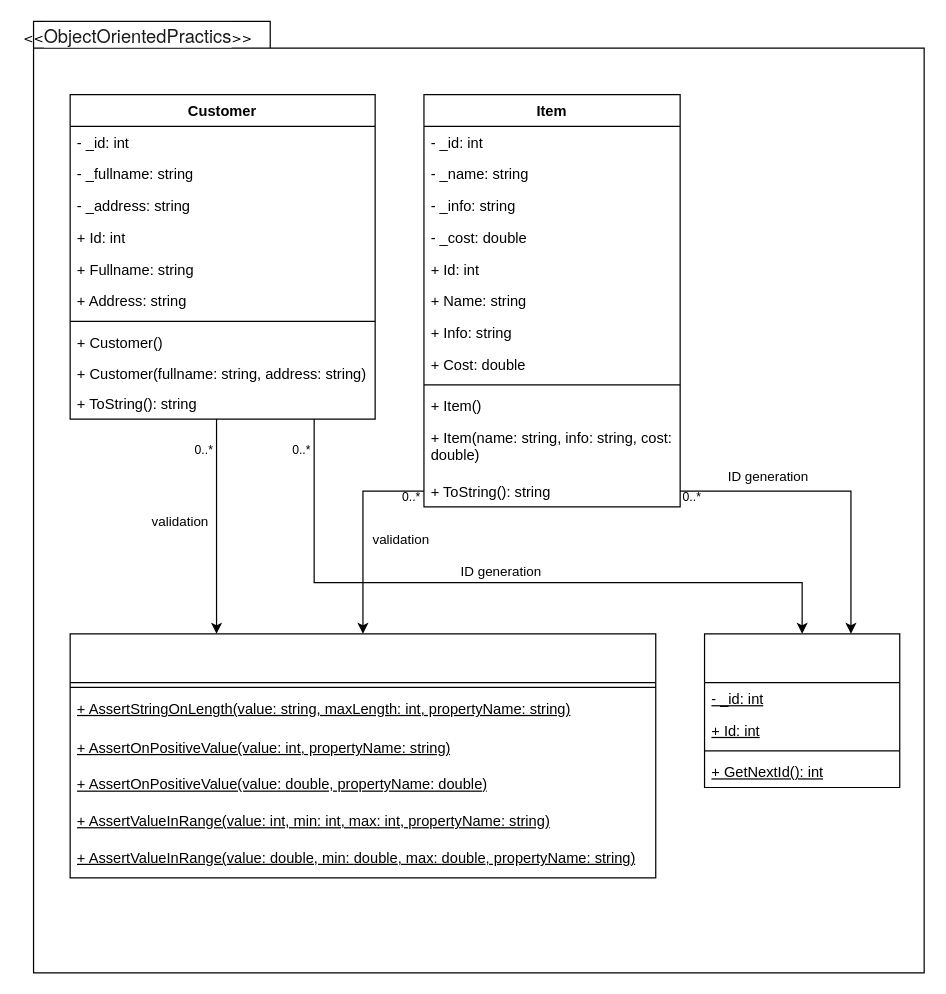
The diagram is 946 pixels wide and 994 high, and some of its shapes have lost their labels. Each missing label, with the box of its shape:
<<utility>> IdGenerator: (703, 633, 900, 788)
<<utility>> ValueValidator: (69, 633, 656, 878)
